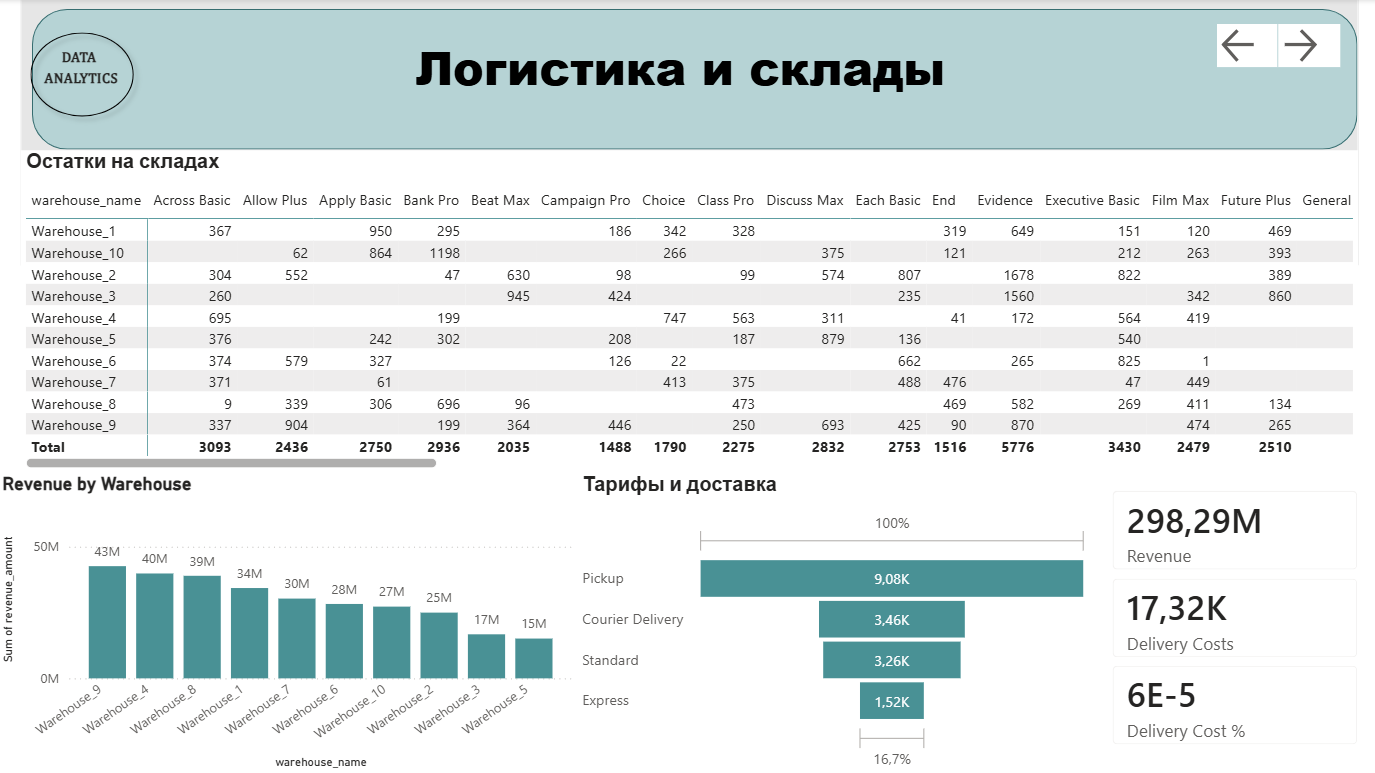

The dashboard page shown, as its layout file describes it:
{"tool":"powerbi","page":{"name":"Логистика и склады","canvas":[1280,720],"ordinal":1},"visuals":[{"type":"shape","box":[22.1,0,1241.9,247.7],"z":0},{"type":"shape","box":[32.6,9.3,1230.6,130.5],"z":1000},{"type":"textbox","box":[24.7,39.8,107,59],"z":2000},{"type":"shape","box":[22,22,113.9,96.1],"z":3000},{"type":"textbox","box":[383.9,28.1,513.2,71.4],"z":4000},{"type":"pivotTable","title":"Остатки на складах","fields":{"Columns":["nomenclature_reference.item_name"],"Rows":["public_wb.warehouse_name"],"Values":["Sum(public_stocks.quantity_in_stock)"]},"box":[21.8,139.8,1241.5,299.9],"z":5000},{"type":"columnChart","title":"Revenue by Warehouse","fields":{"Category":["public_wb.warehouse_name"],"Y":["Sum(public_revenue_wb.revenue_amount)"]},"box":[0,439.7,539.2,279.7],"z":6000},{"type":"actionButton","box":[0,0,100,40],"z":7000},{"type":"funnel","title":"Тарифы и доставка","fields":{"Category":["tariffs_and_shipping.shipping_method"],"Y":["Sum(tariffs_and_shipping.additional_costs)"]},"box":[539,440,480.2,279.5],"z":8000},{"type":"cardVisual","fields":{"Data":["nomenclature_reference.KPI","nomenclature_reference.Delivery Costs","nomenclature_reference.Delivery Cost %"]},"box":[1019.3,439.7,261,271.9],"z":9000},{"type":"actionButton","box":[1132.9,22.7,56.2,40.1],"z":10000},{"type":"actionButton","box":[1189,22.7,57.5,40.1],"z":11000}]}

Visuals, with their boxes in screenshot pixels (x1, y1, x2, y2), scaled from the page's 1280x720 canvas onto the 1375x773 screenshot:
shape: 24/0/1358/266
shape: 35/10/1357/150
textbox: 27/43/141/106
shape: 24/24/146/127
textbox: 412/30/964/107
"Остатки на складах" pivotTable: 23/150/1357/472
"Revenue by Warehouse" columnChart: 0/472/579/772
actionButton: 0/0/107/43
"Тарифы и доставка" funnel: 579/472/1095/772
cardVisual - nomenclature_reference.KPI x nomenclature_reference.Delivery Costs: 1095/472/1374/764
actionButton: 1217/24/1277/67
actionButton: 1277/24/1339/67
